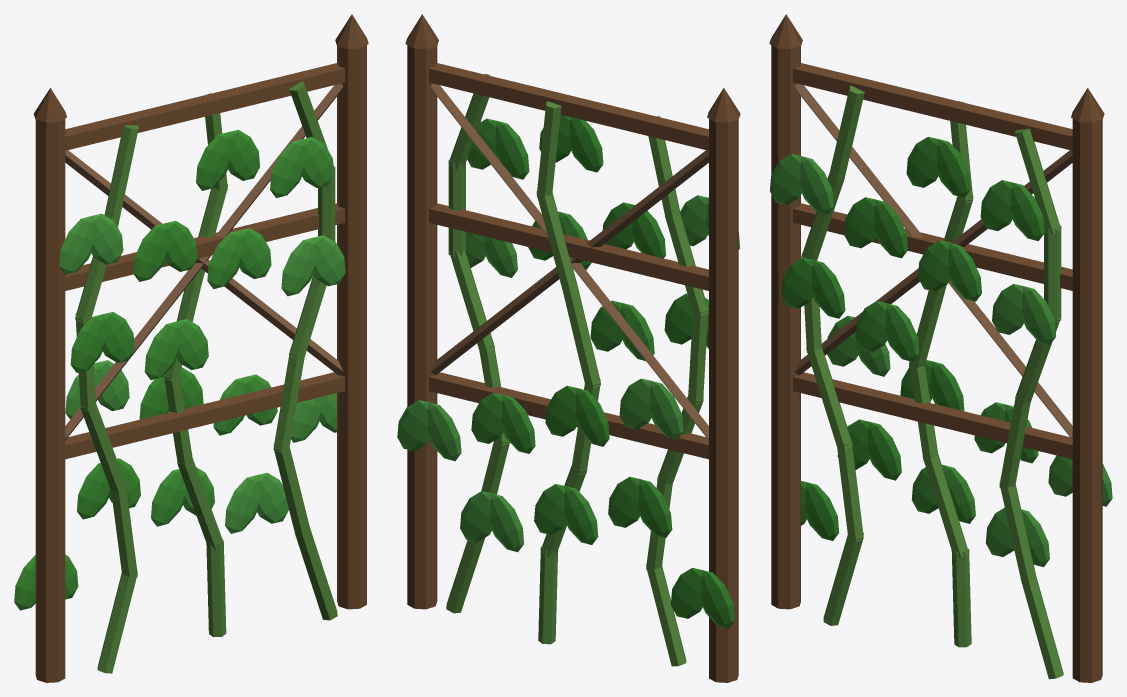
File: Planta_GreenBean.fbx
The picture shows the model from 3 angles, left to right: view 1: azimuth 30°, elevation 25°; view 2: azimuth 150°, elevation 25°; view 3: azimuth 330°, elevation 25°; orthographic projection.
Visible parts, largest first — view 1: Corpo_GreenBean; view 2: Corpo_GreenBean; view 3: Corpo_GreenBean.
Boxes of the visible parts, x1,y1,x2,y2 form: Corpo_GreenBean: (14, 14, 368, 682); Corpo_GreenBean: (397, 14, 740, 682); Corpo_GreenBean: (769, 14, 1112, 682).
Bounding box in the file's own units: 2.03 × 3.39 × 0.3076.
1 material, 1 textured.
